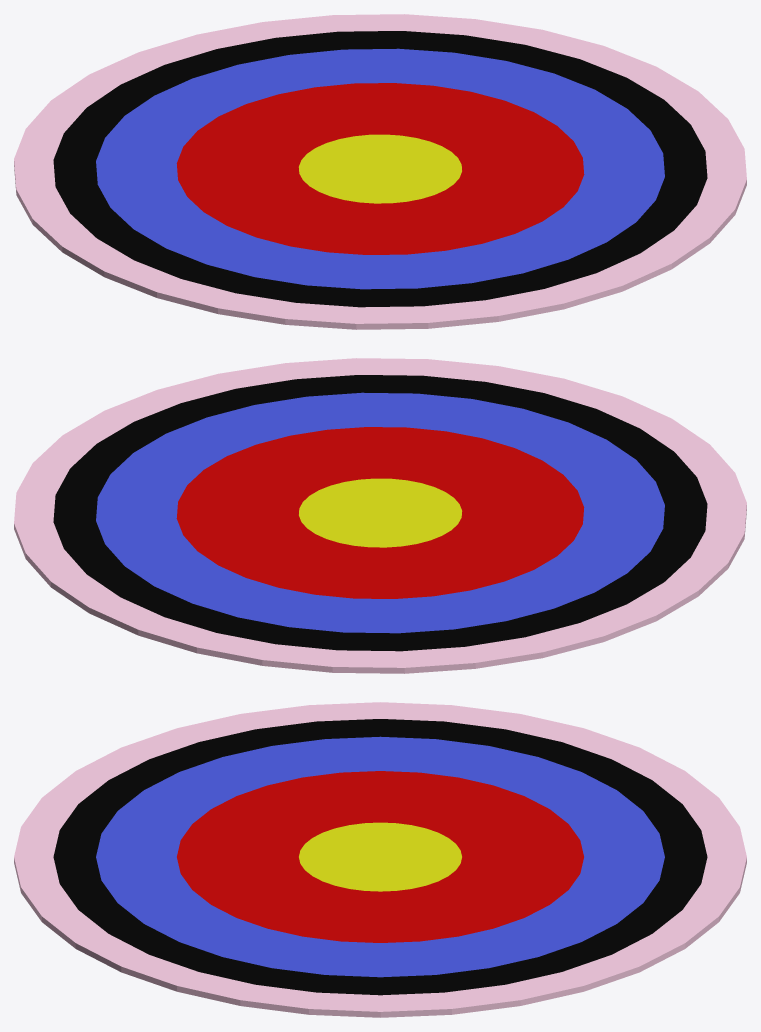
The model's file is targetfinale2.fbx.
3 renders of one model, top to bottom at view 1: azimuth 30°, elevation 25°; view 2: azimuth 150°, elevation 25°; view 3: azimuth 270°, elevation 25°, orthographic.
Parts seen in each view (by area): view 1: Cylinder.003, Cylinder.004, Cylinder.001, Cylinder.002, Cylinder; view 2: Cylinder.003, Cylinder.004, Cylinder.001, Cylinder.002, Cylinder; view 3: Cylinder.003, Cylinder.004, Cylinder.001, Cylinder.002, Cylinder.
Boxes of the visible parts, left/top/right/bottom form: Cylinder.003: left=96, top=48, right=664, bottom=289; Cylinder.004: left=176, top=83, right=584, bottom=254; Cylinder.001: left=14, top=14, right=746, bottom=329; Cylinder.002: left=53, top=31, right=707, bottom=307; Cylinder: left=298, top=134, right=461, bottom=203; Cylinder.003: left=96, top=392, right=664, bottom=633; Cylinder.004: left=176, top=427, right=584, bottom=598; Cylinder.001: left=14, top=358, right=746, bottom=673; Cylinder.002: left=53, top=375, right=707, bottom=651; Cylinder: left=299, top=478, right=462, bottom=547; Cylinder.003: left=96, top=736, right=664, bottom=977; Cylinder.004: left=177, top=771, right=583, bottom=942; Cylinder.001: left=14, top=702, right=746, bottom=1017; Cylinder.002: left=53, top=719, right=707, bottom=995; Cylinder: left=299, top=822, right=461, bottom=891.
Size of the model in its own units: 446 by 3.95 by 446.
